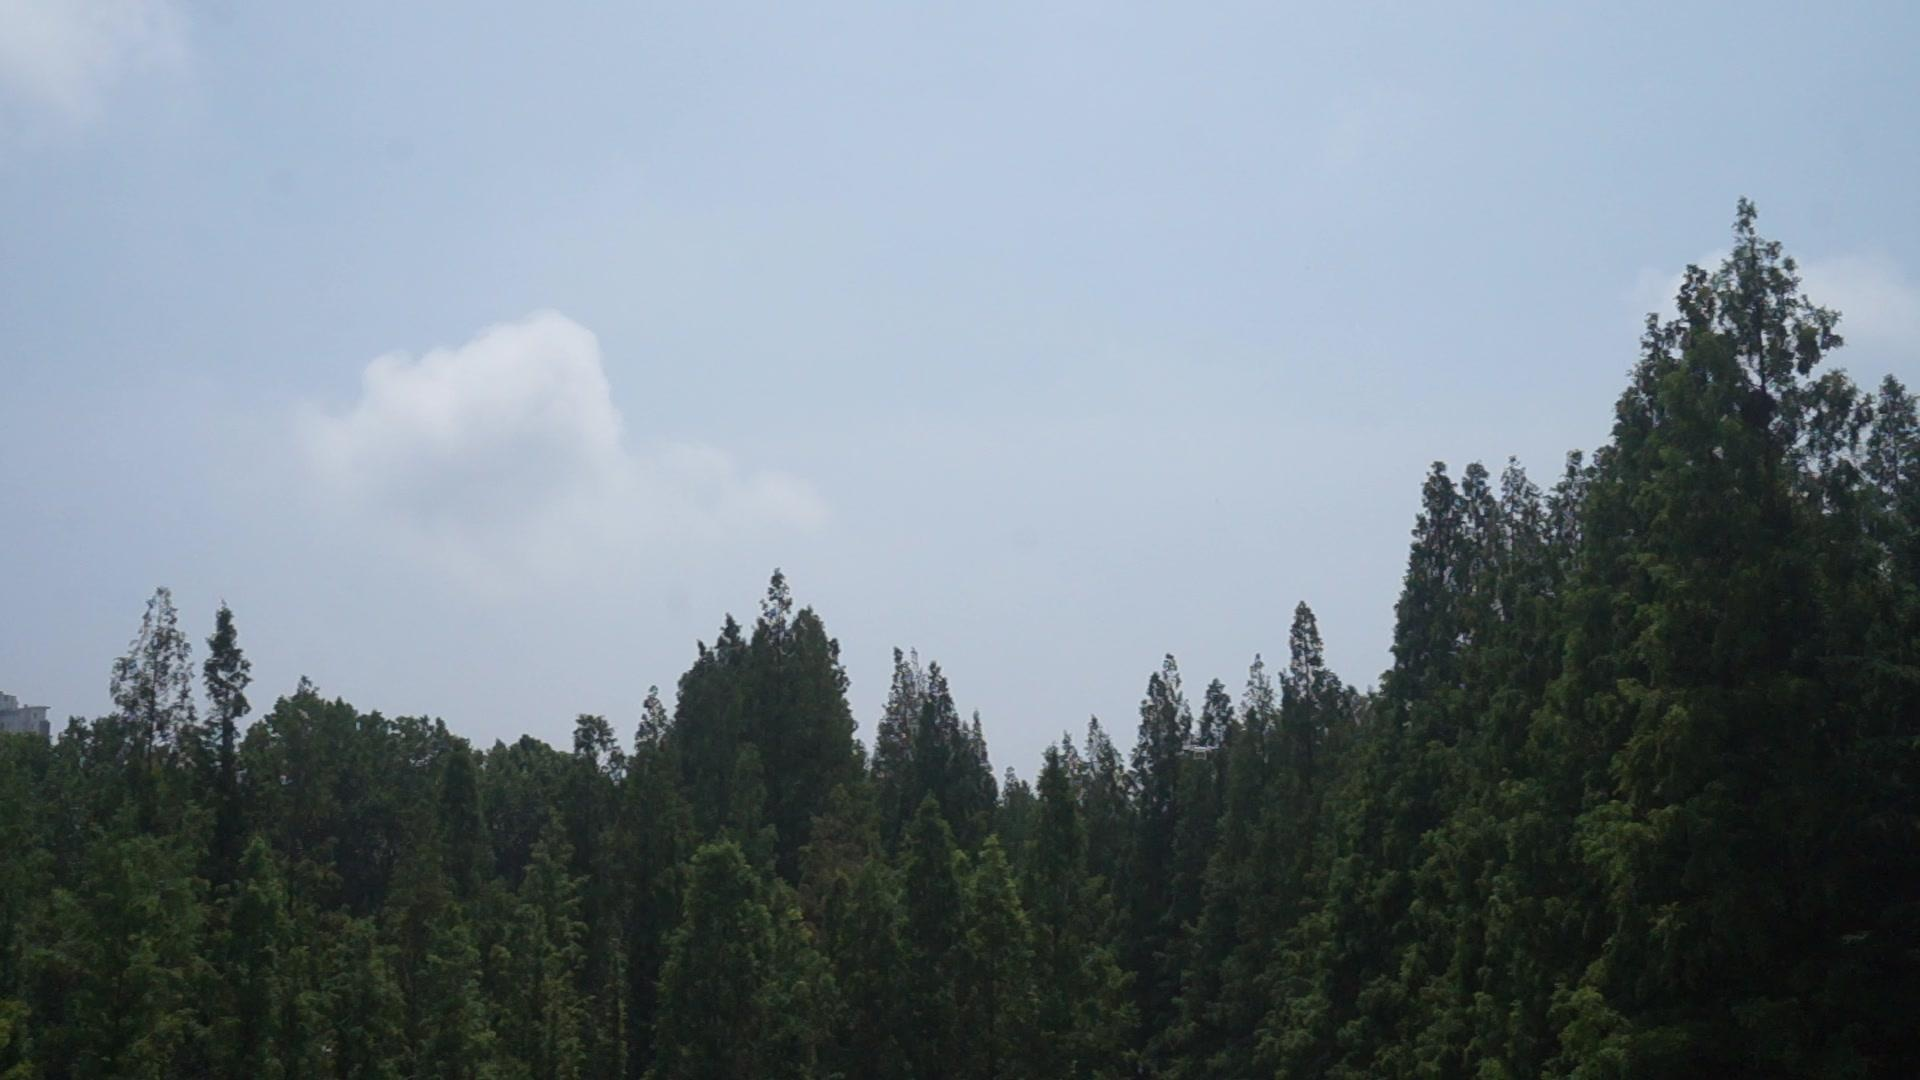UAV: (1184, 746, 1220, 761)
